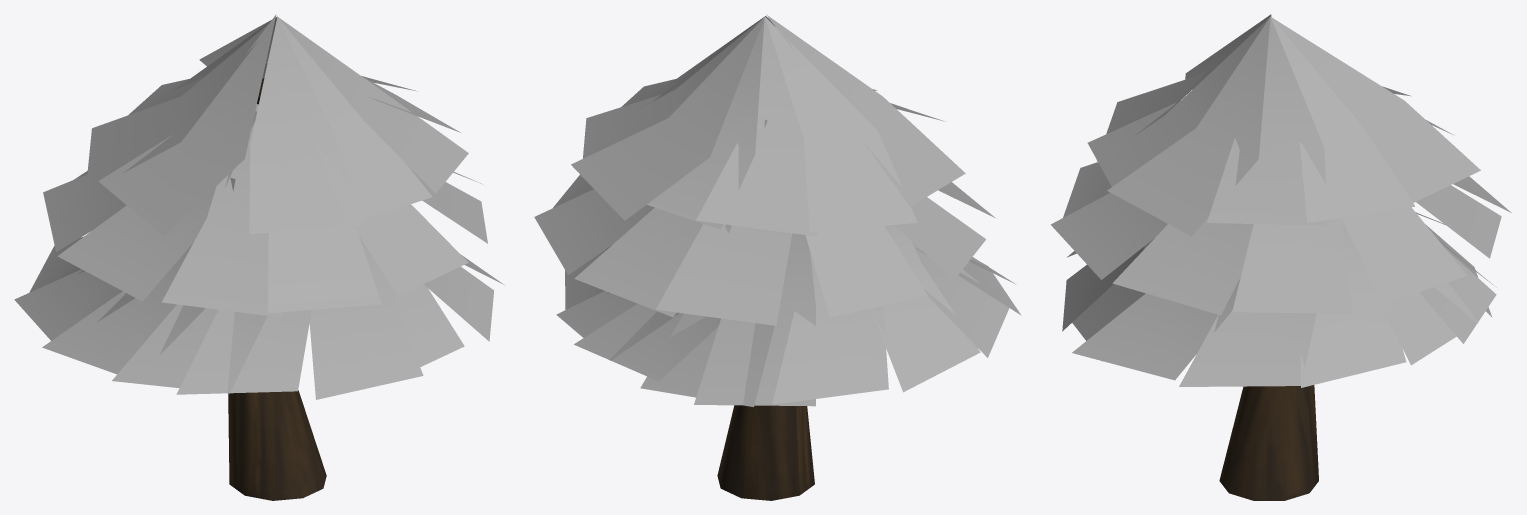
File: 001treeM01.fbx
3 views of the same model, side by side, from view 1: azimuth 30°, elevation 25°; view 2: azimuth 150°, elevation 25°; view 3: azimuth 270°, elevation 25° (orthographic).
Parts seen in each view (by area): view 1: polySurface32; view 2: polySurface32; view 3: polySurface32.
Part boxes in pixels (box(x1,y1,x2,y2)): polySurface32: box(14, 14, 504, 500); polySurface32: box(534, 14, 1021, 500); polySurface32: box(1050, 14, 1511, 500).
Bounding box in the file's own units: 321 × 341 × 306.
2 materials, 1 textured.
